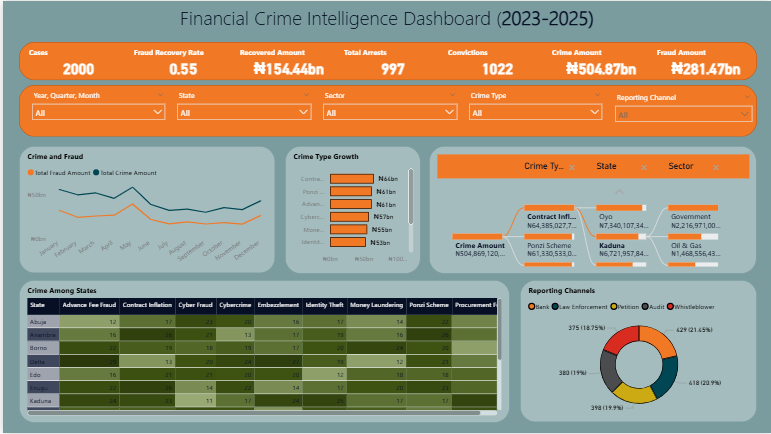

The dashboard page shown, as its layout file describes it:
{"tool":"powerbi","page":{"name":"Crime Pattern Analysis","canvas":[1280,720],"ordinal":1},"visuals":[{"type":"shape","box":[26.2,67.5,1230,63.8],"z":0},{"type":"shape","box":[26.2,140,1230,86.2],"z":1000},{"type":"textbox","box":[0,0,1280,55],"z":2000},{"type":"card","title":"Cases","fields":{"Values":["CountNonNull(Crime Dataset.CaseID)"]},"box":[37.5,76.5,175,53.9],"z":2000,"group":"g1"},{"type":"slicer","fields":{"Values":["EFCC_Data.CrimeType"]},"box":[766.7,143.8,242.1,80],"z":2000,"group":"g2"},{"type":"slicer","fields":{"Values":["EFCC_Data.ReportDate.Variation.Date Hierarchy.Year","EFCC_Data.ReportDate.Variation.Date Hierarchy.Quarter","EFCC_Data.ReportDate.Variation.Date Hierarchy.Month"]},"box":[37.5,143.8,242.1,80],"z":3000,"group":"g2"},{"type":"lineChart","title":"Crime and Fraud","fields":{"Category":["EFCC_Data.ReportDate.Variation.Date Hierarchy.Month"],"Y":["_Measures.Total Fraud Amount","_Measures.Total Crime Amount"]},"box":[26.9,241.8,426.9,211.9],"z":3000},{"type":"card","title":"Fraud Recovery Rate","fields":{"Values":["_Measures.Fraud Recovery Rate"]},"box":[212.7,76.2,174.6,54.1],"z":4000,"group":"g1"},{"type":"barChart","title":"Crime Type Growth","fields":{"Category":["EFCC_Data.CrimeType"],"Y":["_Measures.Total Crime Amount"]},"box":[470,241.2,226.2,212.5],"z":4000},{"type":"slicer","fields":{"Values":["EFCC_Data.Sector"]},"box":[523.1,143.8,243.5,80],"z":5000,"group":"g2"},{"type":"pivotTable","title":"Crime Among States","fields":{"Rows":["EFCC_Data.State"],"Columns":["EFCC_Data.CrimeType"],"Values":["_Measures.Total Cases"]},"box":[26.2,465,817.5,237.5],"z":5000},{"type":"slicer","fields":{"Values":["EFCC_Data.State"]},"box":[279.6,143.8,243.5,80],"z":6000,"group":"g2"},{"type":"donutChart","title":"Reporting Channels","fields":{"Category":["EFCC_Data.ReportingChannel"],"Y":["_Measures.Total Cases"]},"box":[861.7,465,395,236.7],"z":6000},{"type":"group","id":"g1","title":"Group 1","box":[37.5,76.2,1220,55],"z":7000},{"type":"card","title":"Recovered Amount","fields":{"Values":["_Measures.Total Amount Recovered"]},"box":[388.9,76.2,173.1,55.4],"z":8000,"group":"g1"},{"type":"group","id":"g2","title":"Group 2","box":[37.5,143.8,1220,82.5],"z":8000},{"type":"decompositionTreeVisual","fields":{"Analyze":["_Measures.Total Crime Amount"],"ExplainBy":["EFCC_Data.CrimeType","EFCC_Data.State","EFCC_Data.Sector"]},"box":[710,241.2,546.2,212.5],"z":9000},{"type":"card","title":"Total Arrests","fields":{"Values":["_Measures.Total Arrests"]},"box":[562,76.2,173.1,54.1],"z":10000,"group":"g1"},{"type":"card","title":"Convictions","fields":{"Values":["_Measures.Total Convictions"]},"box":[735.1,76.2,174.6,54.1],"z":12000,"group":"g1"},{"type":"slicer","fields":{"Values":["EFCC_Data.ReportingChannel"]},"box":[1008.7,146.3,248.8,80],"z":13001,"group":"g2"},{"type":"card","title":"Crime Amount","fields":{"Values":["_Measures.Total Crime Amount"]},"box":[909.8,76.2,174.6,54.1],"z":14000,"group":"g1"},{"type":"card","title":"Fraud Amount","fields":{"Values":["_Measures.Total Fraud Amount"]},"box":[1084.4,76.2,173.1,54.1],"z":16000,"group":"g1"}]}

Visuals, with their boxes in screenshot pixels (x1, y1, x2, y2), scaled from the page's 1280x720 canvas onto the 771x434 screenshot:
shape: select_region(16, 41, 757, 79)
shape: select_region(16, 84, 757, 136)
textbox: select_region(0, 0, 770, 33)
"Cases" card: select_region(23, 46, 128, 79)
slicer - EFCC_Data.CrimeType: select_region(462, 87, 608, 135)
slicer - EFCC_Data.ReportDate.Variation.Date Hierarchy.Year x EFCC_Data.ReportDate.Variation.Date Hierarchy.Quarter: select_region(23, 87, 168, 135)
"Crime and Fraud" lineChart: select_region(16, 146, 273, 273)
"Fraud Recovery Rate" card: select_region(128, 46, 233, 79)
"Crime Type Growth" barChart: select_region(283, 145, 419, 273)
slicer - EFCC_Data.Sector: select_region(315, 87, 462, 135)
"Crime Among States" pivotTable: select_region(16, 280, 508, 423)
slicer - EFCC_Data.State: select_region(168, 87, 315, 135)
"Reporting Channels" donutChart: select_region(519, 280, 757, 423)
"Group 1" group: select_region(23, 46, 757, 79)
"Recovered Amount" card: select_region(234, 46, 339, 79)
"Group 2" group: select_region(23, 87, 757, 136)
decompositionTreeVisual - _Measures.Total Crime Amount x EFCC_Data.CrimeType: select_region(428, 145, 757, 273)
"Total Arrests" card: select_region(339, 46, 443, 79)
"Convictions" card: select_region(443, 46, 548, 79)
slicer - EFCC_Data.ReportingChannel: select_region(608, 88, 757, 136)
"Crime Amount" card: select_region(548, 46, 653, 79)
"Fraud Amount" card: select_region(653, 46, 757, 79)
